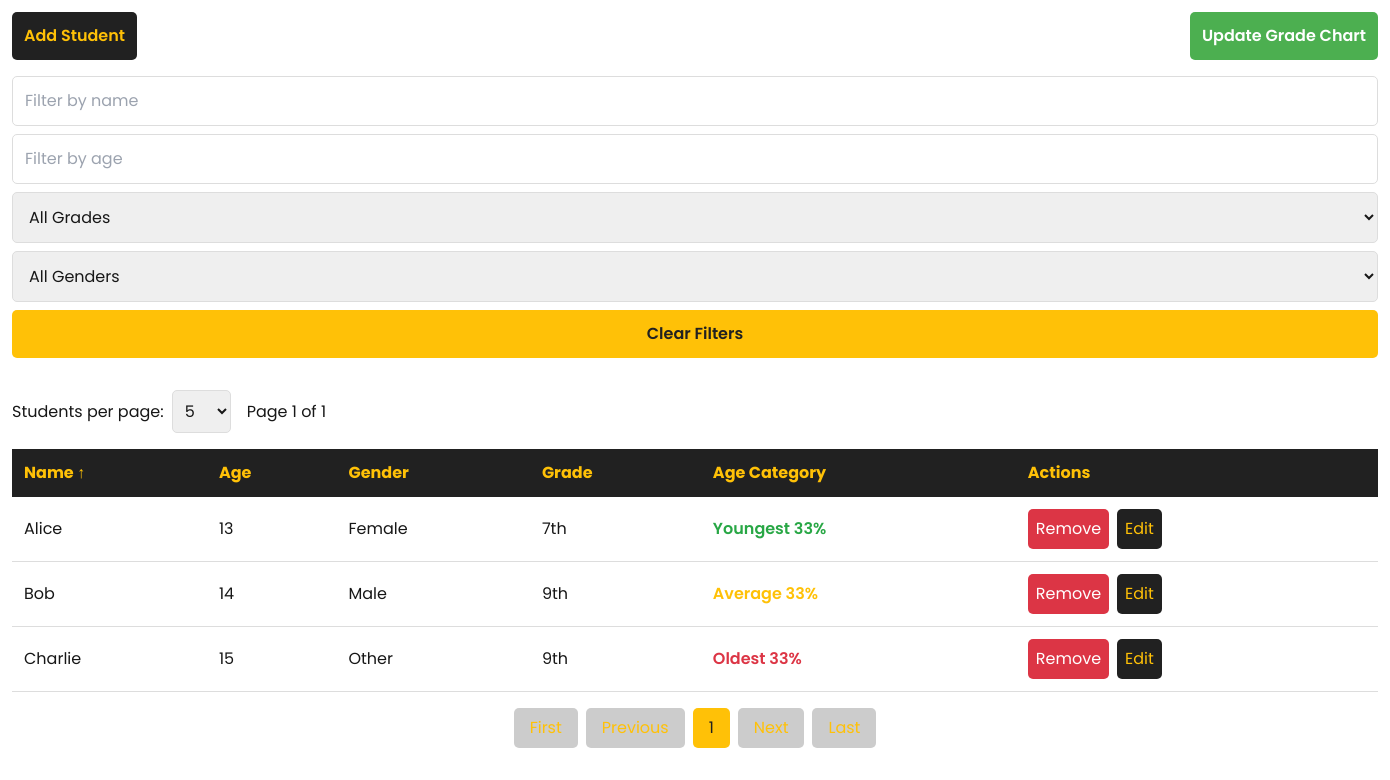
Test: filterStudents › filters students by gender
Select "Female" in the 2nd dropdown. click: (695, 276)
box: [12, 251, 1378, 302]
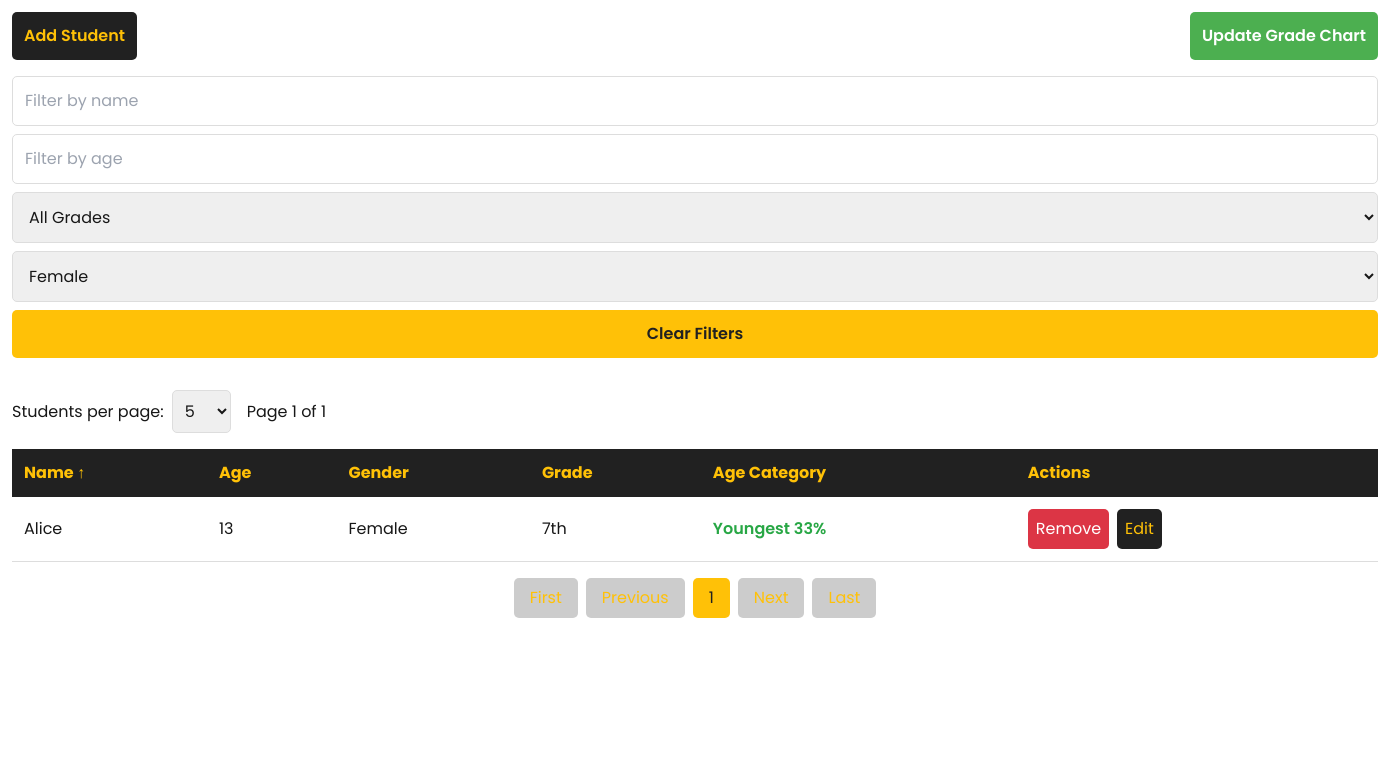
Expected: the text "Alice" is shown, [12, 497, 207, 562]
Expected: the text "Bob" is gone
Expected: the text "Charlie" is gone
